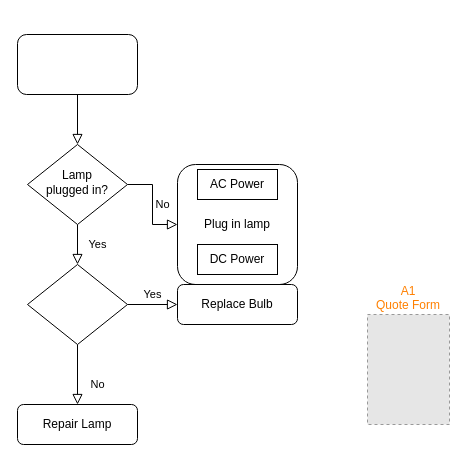
Some shapes in this 467 by 462 pixel diagram are drawn without their labels. Grey dashed boxes stand in for pictures. The centre of each missing label's shape, as x and y in pixels:
"Bulb burned out?" goes at point 77,304.
"Lamp doesn't work" goes at point 77,64.
